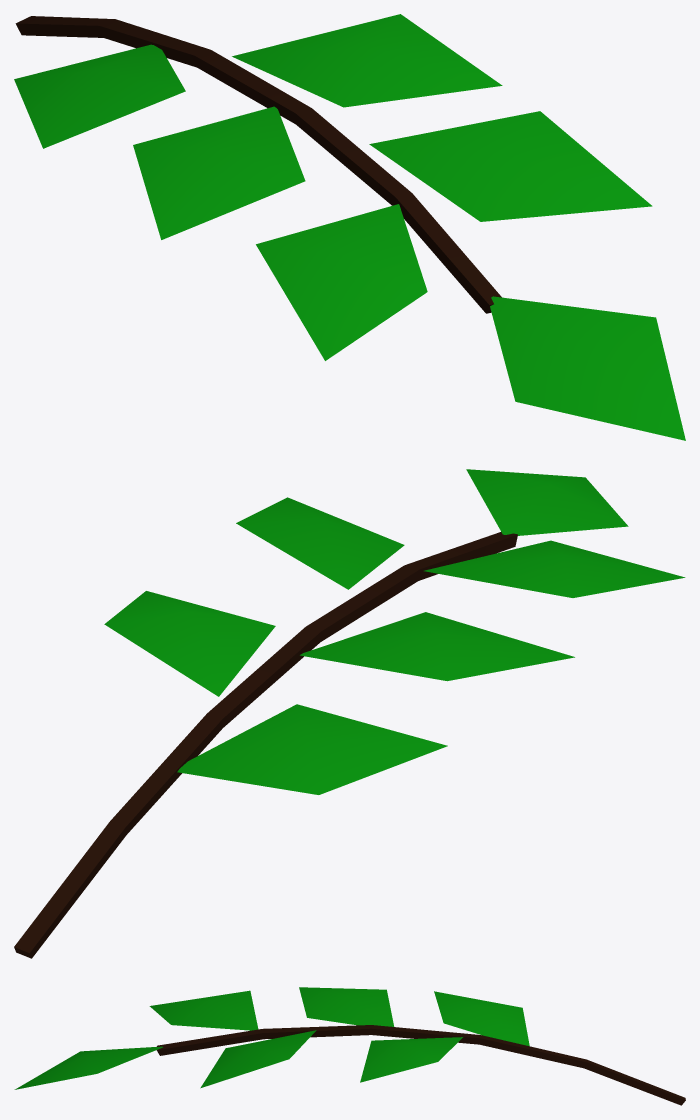
File: leaf.FBX
The picture shows the model from 3 angles, top to bottom: view 1: azimuth 30°, elevation 25°; view 2: azimuth 150°, elevation 25°; view 3: azimuth 270°, elevation 25°; orthographic projection. The views are drawn at different scales.
Parts seen in each view (by area): view 1: Plane005, Plane006, Plane003, Plane002, Plane007, Box007, Plane001; view 2: Box007, Plane001, Plane002, Plane007, Plane003, Plane005, Plane006; view 3: Box007, Plane002, Plane001, Plane003, Plane007, Plane006, Plane005.
Part boxes in pixels (x1,y1,x2,y2): Plane005: [490, 296, 685, 440]; Plane006: [369, 111, 652, 221]; Plane003: [256, 204, 427, 360]; Plane002: [133, 106, 305, 239]; Plane007: [232, 14, 502, 107]; Box007: [15, 16, 501, 313]; Plane001: [14, 44, 185, 148]; Box007: [14, 532, 517, 958]; Plane001: [177, 704, 447, 794]; Plane002: [300, 612, 574, 681]; Plane007: [104, 591, 275, 696]; Plane003: [424, 540, 685, 597]; Plane005: [466, 469, 628, 535]; Plane006: [236, 497, 404, 589]; Box007: [156, 1025, 685, 1105]; Plane002: [299, 987, 394, 1026]; Plane001: [434, 991, 529, 1046]; Plane003: [149, 990, 258, 1030]; Plane007: [360, 1037, 462, 1082]; Plane006: [200, 1030, 316, 1088]; Plane005: [14, 1046, 162, 1089].
Size of the model in its own units: 26.49 by 9.93 by 72.57.
